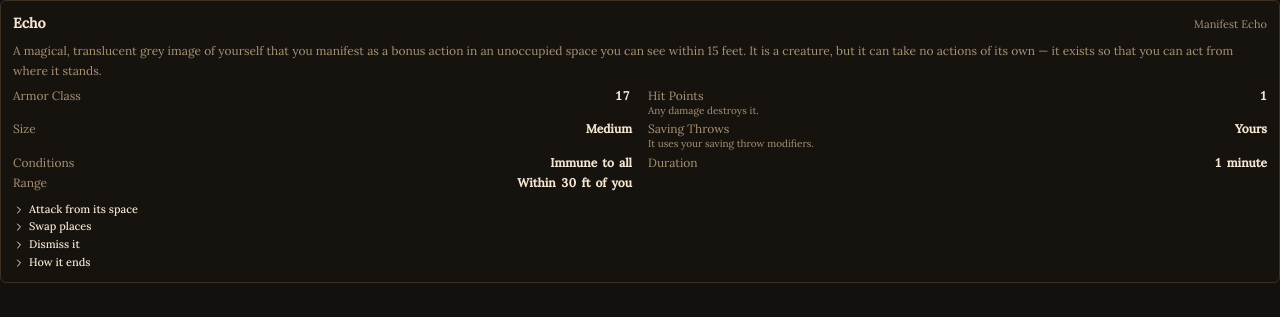
Test: CompanionPanel › collapses each trait to its name until clicked
Click the button with test id "companion-echo-trait-swap".
click(52, 227)  # box [13,220,92,234]
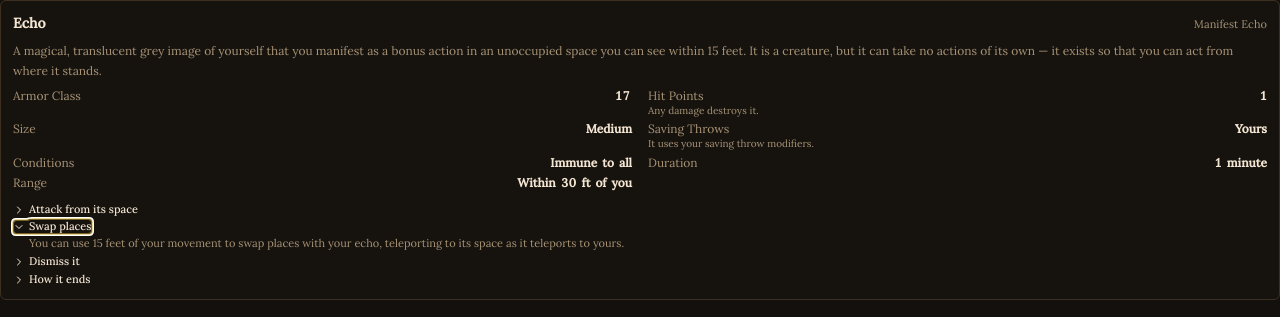
Expected: the text with test id "companion-echo-trait-swap-text" shows "15 feet of your movement", [29,236,624,250]
